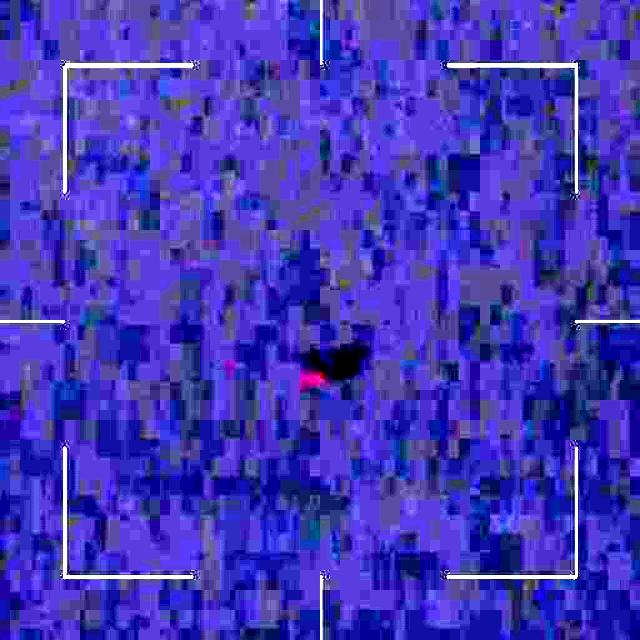bird: (295, 350, 331, 404)
